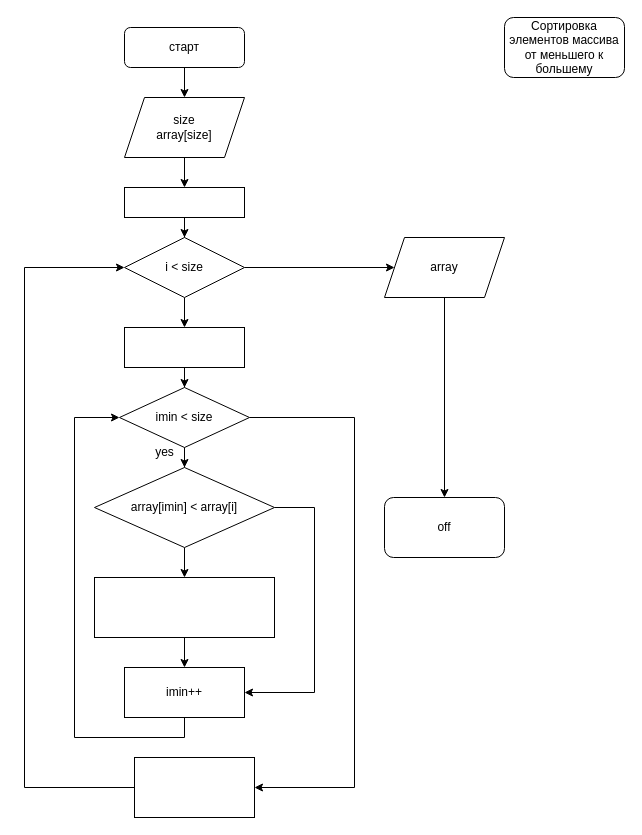
The diagram is 642 pixels wide and 835 high, and some of its shapes have lost their labels. Each missing label, with the centre of its shape:
"i = 0" goes at pixel 184 202.
"i++" goes at pixel 194 787.
"imin = i +1" goes at pixel 184 347.
"temp = array[imin] array[imin] = array[i] array[i] = temp" goes at pixel 184 607.
